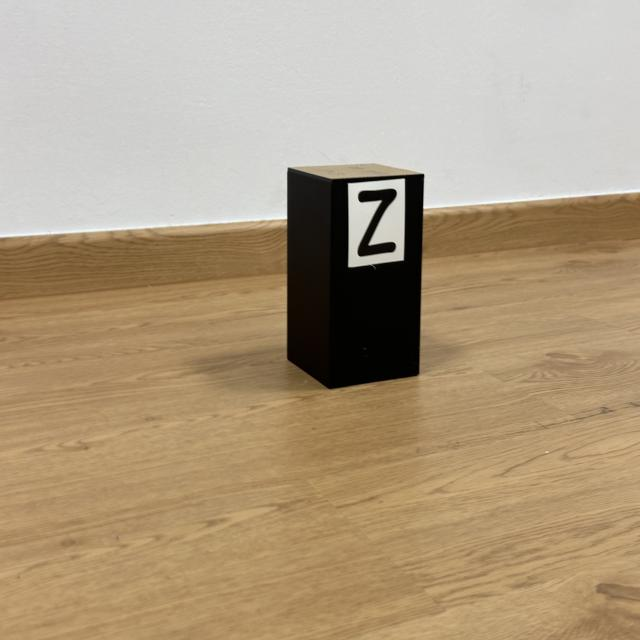Z: (358, 188, 396, 257)
